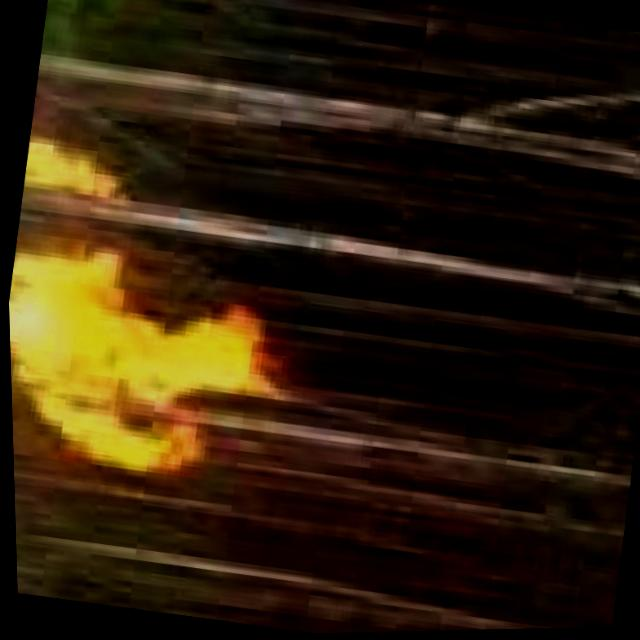fire: (6, 232, 273, 492), (20, 134, 145, 207)
